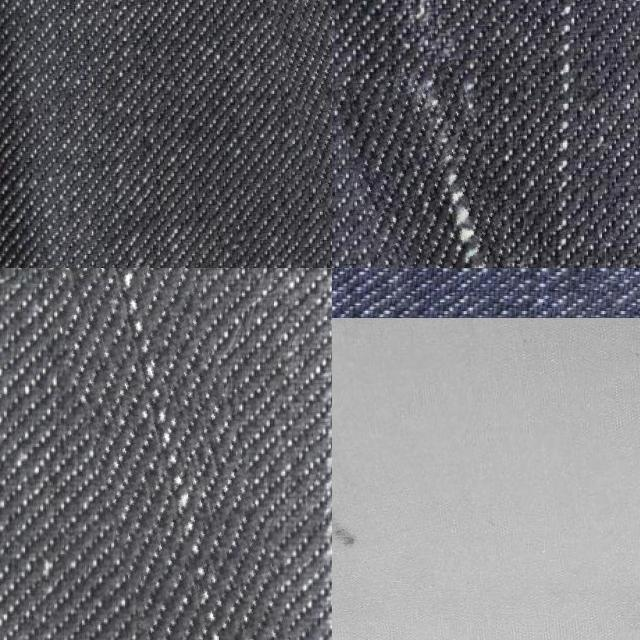Thread_other: (332, 408, 430, 626)
stains: (35, 268, 255, 640), (353, 63, 521, 268), (535, 0, 618, 268), (250, 0, 332, 268)
